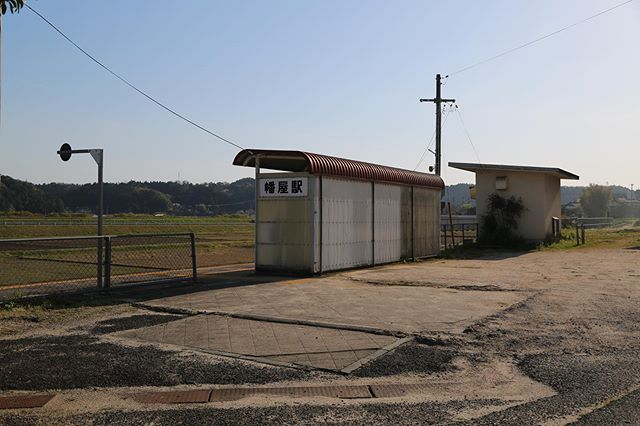building: (232, 144, 449, 270), (450, 154, 578, 249)
power pole: (421, 66, 469, 180)
sky: (1, 1, 640, 168)
